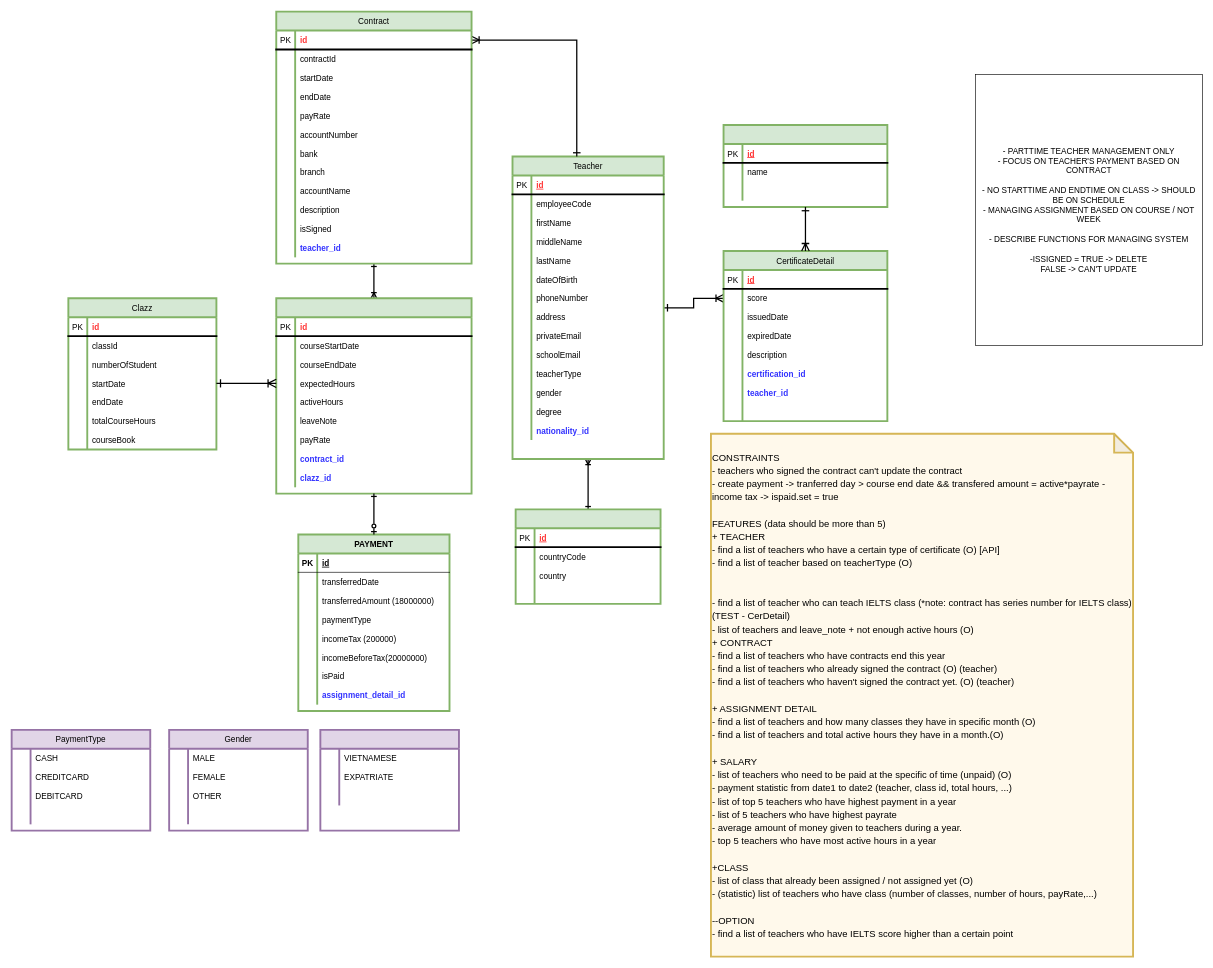
Some shapes in this 1213 by 968 pixel diagram are drawn without their labels. The shapes that lost their labels are listed below. From the top down, each one's box as (x1, y1, x2, y2) in pixels, then its label:
(722, 124, 888, 208): Certificate
(275, 297, 472, 494): AssignmentDetail
(514, 508, 661, 604): NATIONALITY
(319, 729, 460, 831): Teacher type (ENUM)
